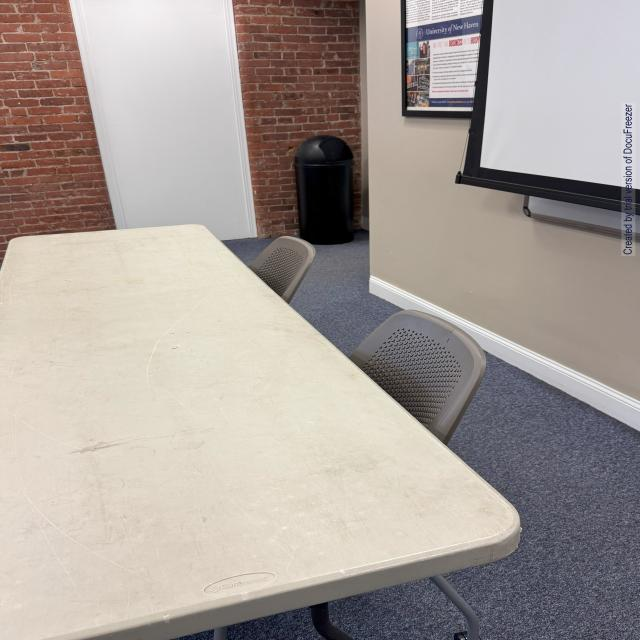Table: (2, 227, 524, 640)
chair: (372, 296, 502, 462), (248, 229, 322, 305)
